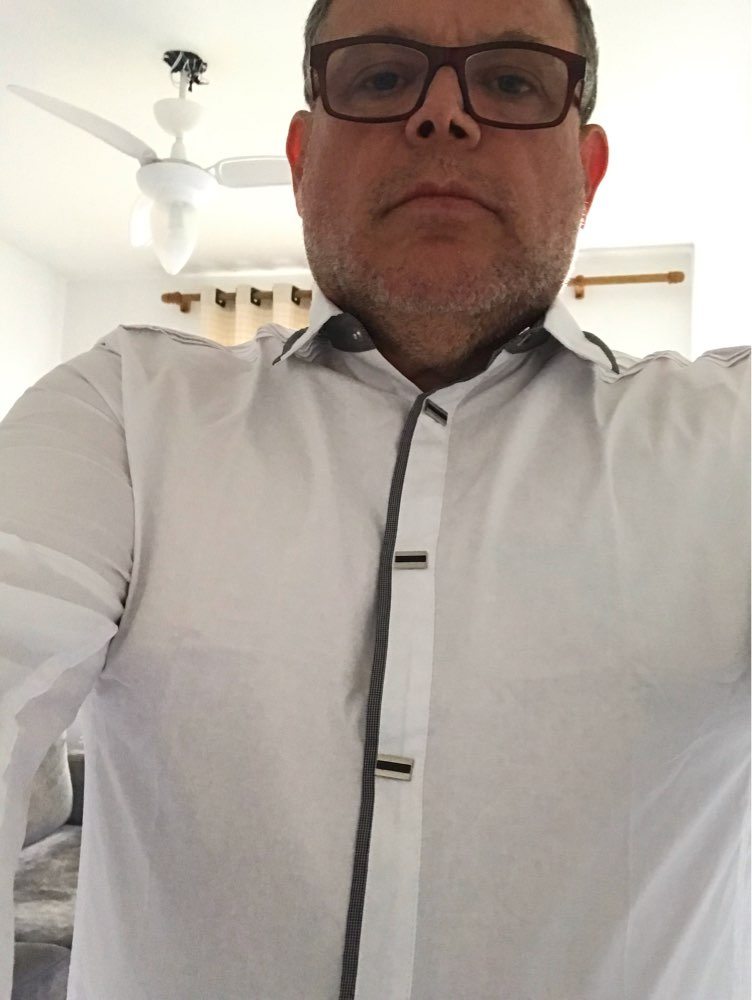shirts: (37, 306, 752, 987)
